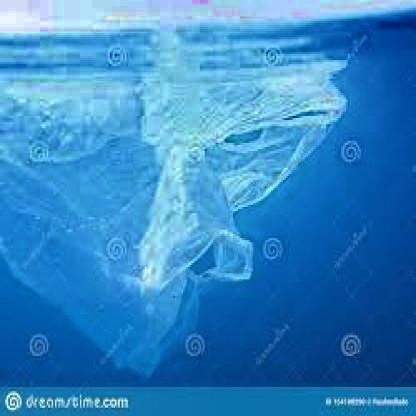pbag: (1, 70, 352, 381)
